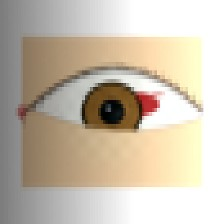hemorrhage_spot: (102, 78, 168, 131)
